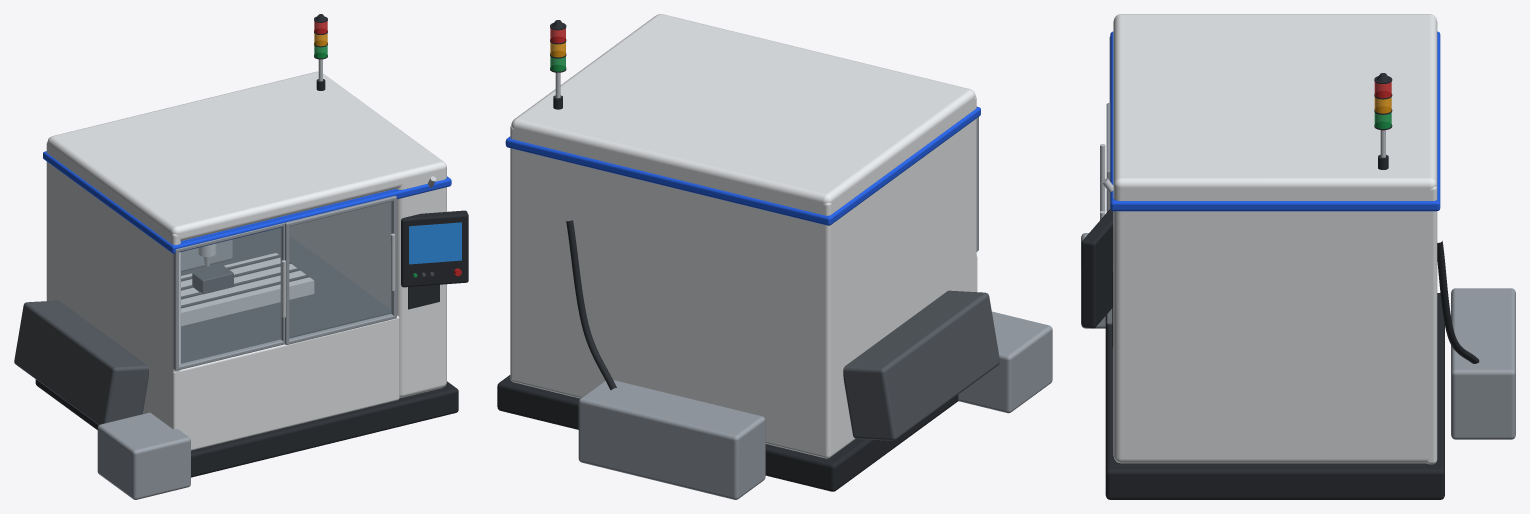
The model's file is cnc-mill.glb.
3 renders of one model, left to right at view 1: azimuth 30°, elevation 25°; view 2: azimuth 150°, elevation 25°; view 3: azimuth 270°, elevation 25°, orthographic. The views are drawn at different scales.
Visible parts, largest first — view 1: cnc_mill_paint_white, cnc_mill_glass, cnc_mill_dark_steel, cnc_mill_paint_grey, cnc_mill_graphite, cnc_mill_steel, cnc_mill_accent_blue, cnc_mill_screen; view 2: cnc_mill_paint_white, cnc_mill_paint_grey, cnc_mill_dark_steel, cnc_mill_graphite, cnc_mill_accent_blue; view 3: cnc_mill_paint_white, cnc_mill_graphite, cnc_mill_paint_grey, cnc_mill_accent_blue, cnc_mill_steel.
Boxes of the visible parts, left/top/right/bottom form: cnc_mill_paint_white: left=46, top=71, right=446, bottom=450; cnc_mill_glass: left=179, top=202, right=391, bottom=364; cnc_mill_dark_steel: left=14, top=228, right=434, bottom=424; cnc_mill_paint_grey: left=97, top=196, right=396, bottom=499; cnc_mill_graphite: left=35, top=14, right=468, bottom=477; cnc_mill_steel: left=181, top=59, right=436, bottom=326; cnc_mill_accent_blue: left=43, top=151, right=451, bottom=253; cnc_mill_screen: left=409, top=222, right=461, bottom=264; cnc_mill_paint_white: left=510, top=14, right=977, bottom=458; cnc_mill_paint_grey: left=578, top=117, right=1052, bottom=499; cnc_mill_dark_steel: left=843, top=290, right=999, bottom=440; cnc_mill_graphite: left=497, top=20, right=958, bottom=491; cnc_mill_accent_blue: left=505, top=106, right=980, bottom=225; cnc_mill_paint_white: left=1113, top=14, right=1437, bottom=464; cnc_mill_graphite: left=1081, top=73, right=1479, bottom=499; cnc_mill_paint_grey: left=1081, top=36, right=1515, bottom=439; cnc_mill_accent_blue: left=1110, top=31, right=1440, bottom=211; cnc_mill_steel: left=1100, top=130, right=1385, bottom=219.
Size of the model in its own units: 3.19 by 2.93 by 2.82.
